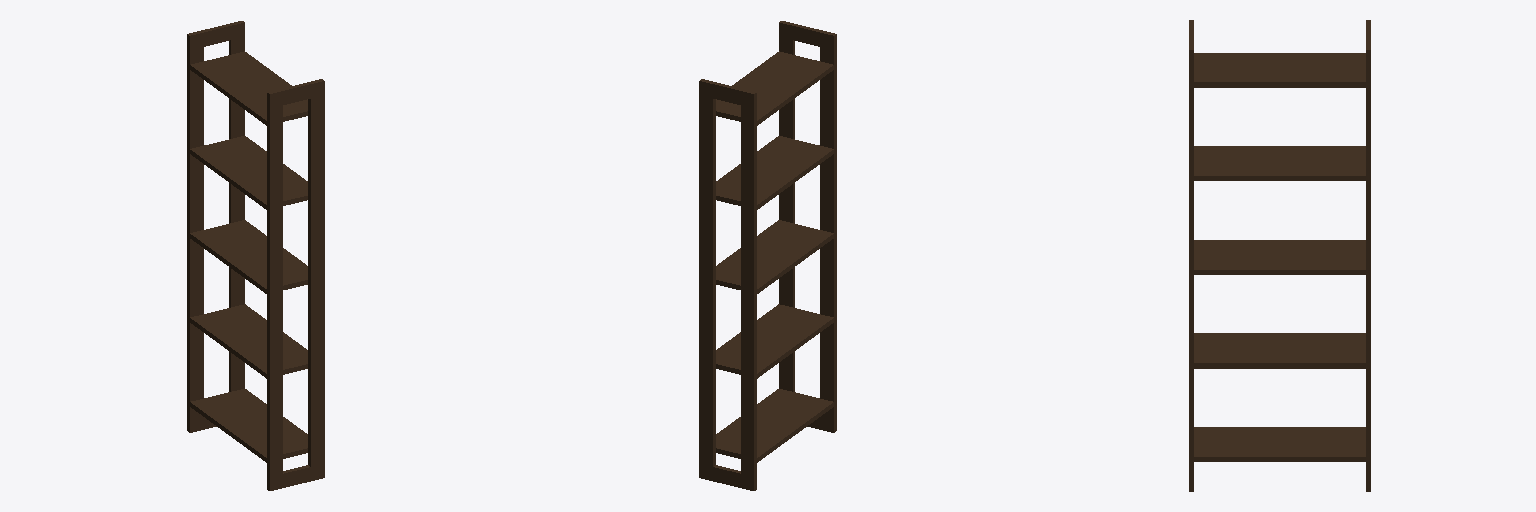
The robot description file, URDF, robot "cutting_board":
<robot name="cutting_board">
  <link name="cutting_board">
    <!-- Shelf 1 -->
    <collision>
      <origin xyz="0 0 0.12"/>
      <geometry>
        <box size="0.24 0.58 0.02"/>
      </geometry>
    </collision>
    <visual>
      <origin xyz="0 0 0.12"/>
      <material name="brown">
        <color rgba="0.3 0.23 0.17 1.0"/>
      </material>
      <geometry>
        <box size="0.24 0.58 0.02"/>
      </geometry>
    </visual>

    <!-- Shelf 2 -->
    <collision>
      <origin xyz="0 0 0.47"/>
      <geometry>
        <box size="0.24 0.58 0.02"/>
      </geometry>
    </collision>
    <visual>
      <origin xyz="0 0 0.47"/>
      <material name="brown">
        <color rgba="0.3 0.23 0.17 1.0"/>
      </material>
      <geometry>
        <box size="0.24 0.58 0.02"/>
      </geometry>
    </visual>

    <!-- Shelf 3 -->
    <collision>
      <origin xyz="0 0 0.82"/>
      <geometry>
        <box size="0.24 0.58 0.02"/>
      </geometry>
    </collision>
    <visual>
      <origin xyz="0 0 0.82"/>
      <material name="brown">
        <color rgba="0.3 0.23 0.17 1.0"/>
      </material>
      <geometry>
        <box size="0.24 0.58 0.02"/>
      </geometry>
    </visual>

    <!-- Shelf 4 -->
    <collision>
      <origin xyz="0 0 1.17"/>
      <geometry>
        <box size="0.24 0.58 0.02"/>
      </geometry>
    </collision>
    <visual>
      <origin xyz="0 0 1.17"/>
      <material name="brown">
        <color rgba="0.3 0.23 0.17 1.0"/>
      </material>
      <geometry>
        <box size="0.24 0.58 0.02"/>
      </geometry>
    </visual>

    <!-- Shelf 5 -->
    <collision>
      <origin xyz="0 0 1.52"/>
      <geometry>
        <box size="0.24 0.58 0.02"/>
      </geometry>
    </collision>
    <visual>
      <origin xyz="0 0 1.52"/>
      <material name="brown">
        <color rgba="0.3 0.23 0.17 1.0"/>
      </material>
      <geometry>
        <box size="0.24 0.58 0.02"/>
      </geometry>
    </visual>

    <!-- Board 1 -->
    <collision>
      <origin xyz="-0.09 0.3 0.825"/>
      <geometry>
        <box size="0.06 0.02 1.65"/>
      </geometry>
    </collision>
    <visual>
      <origin xyz="-0.09 0.3 0.825"/>
      <material name="brown">
        <color rgba="0.3 0.23 0.17 1.0"/>
      </material>
      <geometry>
        <box size="0.06 0.02 1.65"/>
      </geometry>
    </visual>

    <!-- Board 2 -->
    <collision>
      <origin xyz="0.09 0.3 0.825"/>
      <geometry>
        <box size="0.06 0.02 1.65"/>
      </geometry>
    </collision>
    <visual>
      <origin xyz="0.09 0.3 0.825"/>
      <material name="brown">
        <color rgba="0.3 0.23 0.17 1.0"/>
      </material>
      <geometry>
        <box size="0.06 0.02 1.65"/>
      </geometry>
    </visual>

    <!-- Board 3 -->
    <collision>
      <origin xyz="0.09 -0.3 0.825"/>
      <geometry>
        <box size="0.06 0.02 1.65"/>
      </geometry>
    </collision>
    <visual>
      <origin xyz="0.09 -0.3 0.825"/>
      <material name="brown">
        <color rgba="0.3 0.23 0.17 1.0"/>
      </material>
      <geometry>
        <box size="0.06 0.02 1.65"/>
      </geometry>
    </visual>

    <!-- Board 4 -->
    <collision>
      <origin xyz="-0.09 -0.3 0.825"/>
      <geometry>
        <box size="0.06 0.02 1.65"/>
      </geometry>
    </collision>
    <visual>
      <origin xyz="-0.09 -0.3 0.825"/>
      <material name="brown">
        <color rgba="0.3 0.23 0.17 1.0"/>
      </material>
      <geometry>
        <box size="0.06 0.02 1.65"/>
      </geometry>
    </visual>

    <!-- Connector 1 -->
    <collision>
      <origin xyz="0 -0.3 0.03"/>
      <geometry>
        <box size="0.12 0.02 0.06"/>
      </geometry>
    </collision>
    <visual>
      <origin xyz="0 -0.3 0.03"/>
      <material name="brown">
        <color rgba="0.3 0.23 0.17 1.0"/>
      </material>
      <geometry>
        <box size="0.12 0.02 0.06"/>
      </geometry>
    </visual>

    <!-- Connector 3 -->
    <collision>
      <origin xyz="0 0.3 0.03"/>
      <geometry>
        <box size="0.12 0.02 0.06"/>
      </geometry>
    </collision>
    <visual>
      <origin xyz="0 0.3 0.03"/>
      <material name="brown">
        <color rgba="0.3 0.23 0.17 1.0"/>
      </material>
      <geometry>
        <box size="0.12 0.02 0.06"/>
      </geometry>
    </visual>

    <!-- Connector 2 -->
    <collision>
      <origin xyz="0 -0.3 1.62"/>
      <geometry>
        <box size="0.12 0.02 0.06"/>
      </geometry>
    </collision>
    <visual>
      <origin xyz="0 -0.3 1.62"/>
      <material name="brown">
        <color rgba="0.3 0.23 0.17 1.0"/>
      </material>
      <geometry>
        <box size="0.12 0.02 0.06"/>
      </geometry>
    </visual>

    <!-- Connector 4 -->
    <collision>
      <origin xyz="0 0.3 1.62"/>
      <geometry>
        <box size="0.12 0.02 0.06"/>
      </geometry>
    </collision>
    <visual>
      <origin xyz="0 0.3 1.62"/>
      <material name="brown">
        <color rgba="0.3 0.23 0.17 1.0"/>
      </material>
      <geometry>
        <box size="0.12 0.02 0.06"/>
      </geometry>
    </visual>
  </link>
</robot>

--- What the picture shows (computed from the rendered views, not written in the file) ---
The picture shows the robot from 3 angles, left to right: view 1: azimuth 30°, elevation 25°; view 2: azimuth 150°, elevation 25°; view 3: azimuth 270°, elevation 25°; orthographic projection.
Model cutting_board with 1 links and 0 joints (none), rooted at cutting_board, posed all joints at 0.
Visible links, largest first — view 1: cutting_board; view 2: cutting_board; view 3: cutting_board.
Boxes of the visible links, bbox=[...] form: cutting_board: bbox=[187, 21, 324, 490]; cutting_board: bbox=[699, 21, 836, 490]; cutting_board: bbox=[1189, 20, 1370, 491].
Bounding box of the posed robot: 0.24 × 0.62 × 1.65 m (x, y, z).
Geometry: primitives only (box / cylinder / sphere), no mesh files.